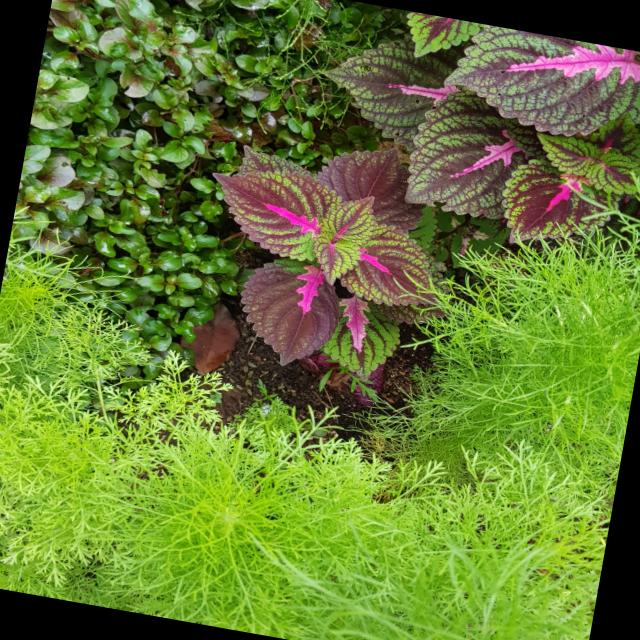Coleus: (338, 11, 640, 235), (197, 140, 460, 364)
Dill: (0, 358, 619, 640)
